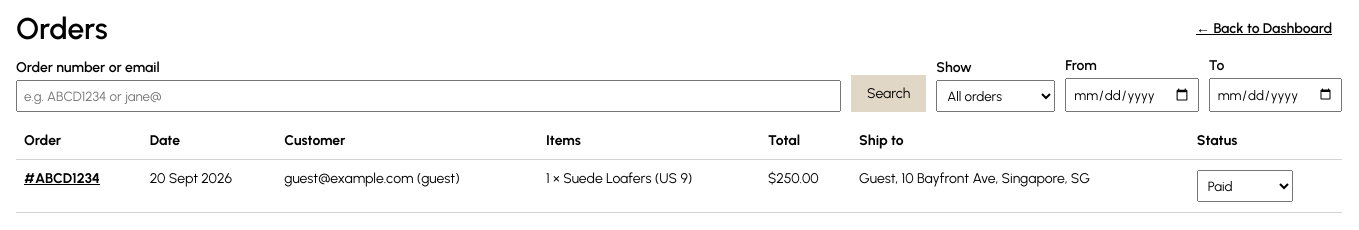
Scenario: AdminOrders › searches by order number or email, and filters by dates, keeping them in the address
Check: the link "#ABCD1234" is shown, box [24,170,100,187]
Type " jane@ " into the search field labelled "Order number or email".
click(428, 96); type(" jane@ ")  # box [16,80,841,112]
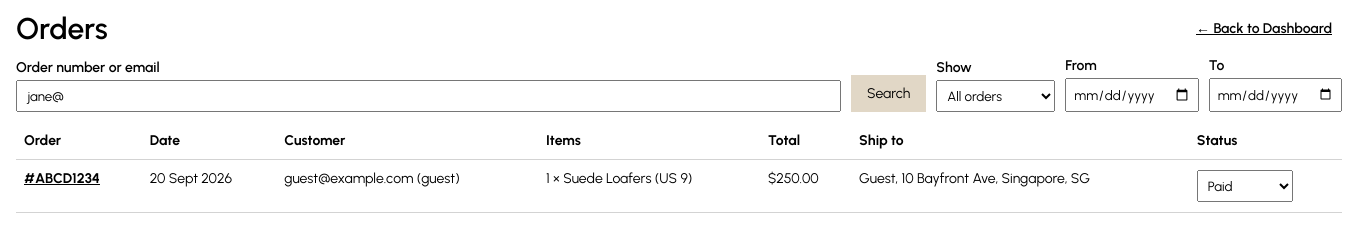
Click the button "Search".
click(889, 94)  # box [851,75,926,112]
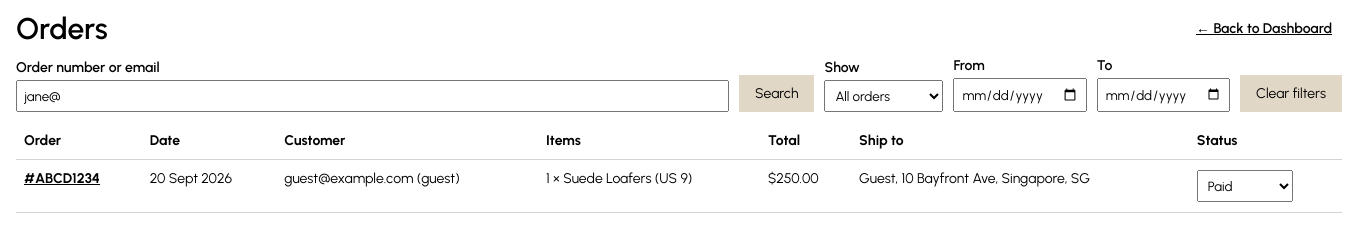
Type "2026-10-01" into the date field labelled "From".
click(1020, 95); type("2026-10-01")  # box [953,78,1087,112]
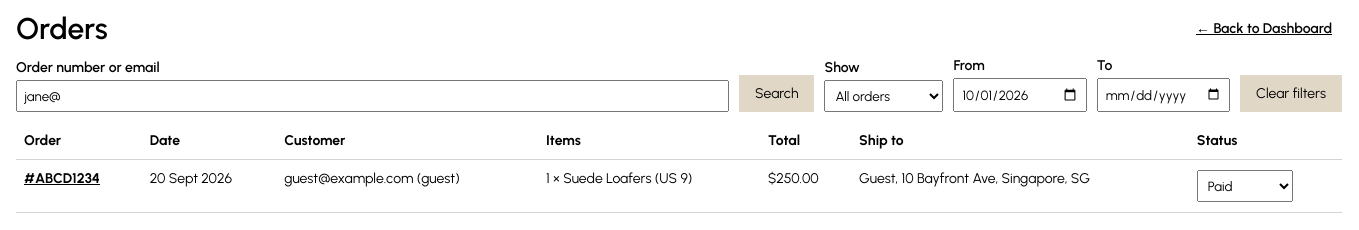
Type "2026-10-05" into the date field labelled "To".
click(1163, 95); type("2026-10-05")  # box [1097,78,1230,112]
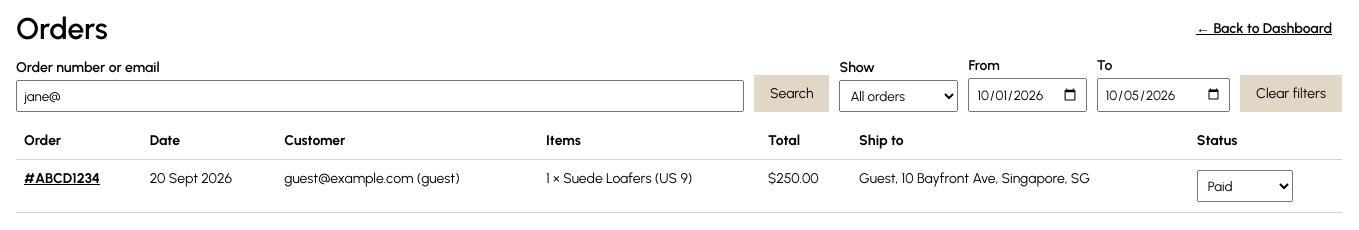
Click the button "Clear filters".
click(1291, 94)  # box [1240,75,1342,112]
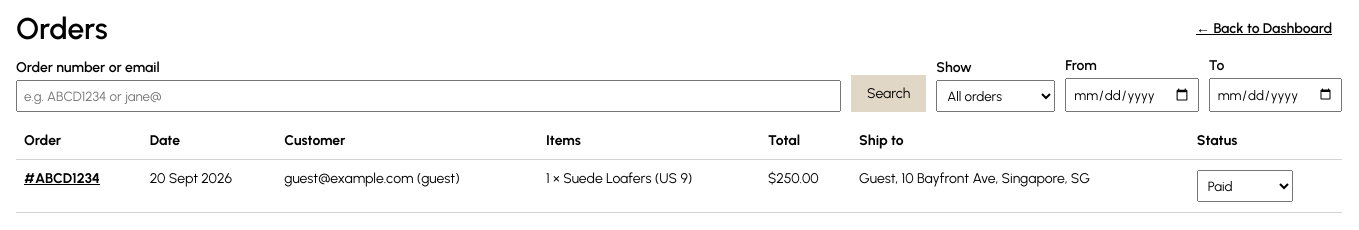
Check: the search field labelled "Order number or email" is empty, box [16,80,841,112]
